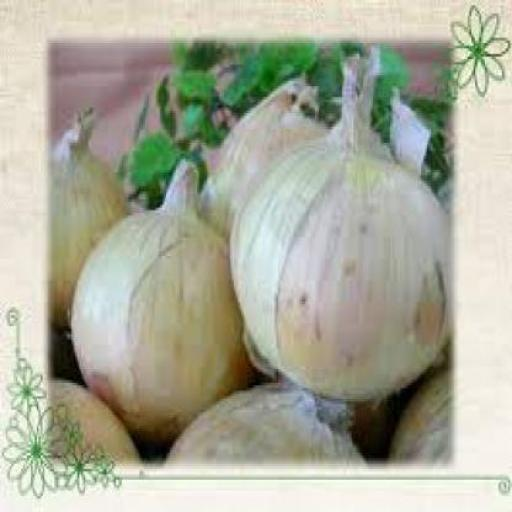biodegradable: (226, 48, 452, 402), (114, 37, 446, 205), (65, 154, 251, 442), (160, 361, 368, 461), (52, 105, 122, 321), (48, 374, 139, 464), (385, 361, 452, 461), (126, 129, 182, 192)
